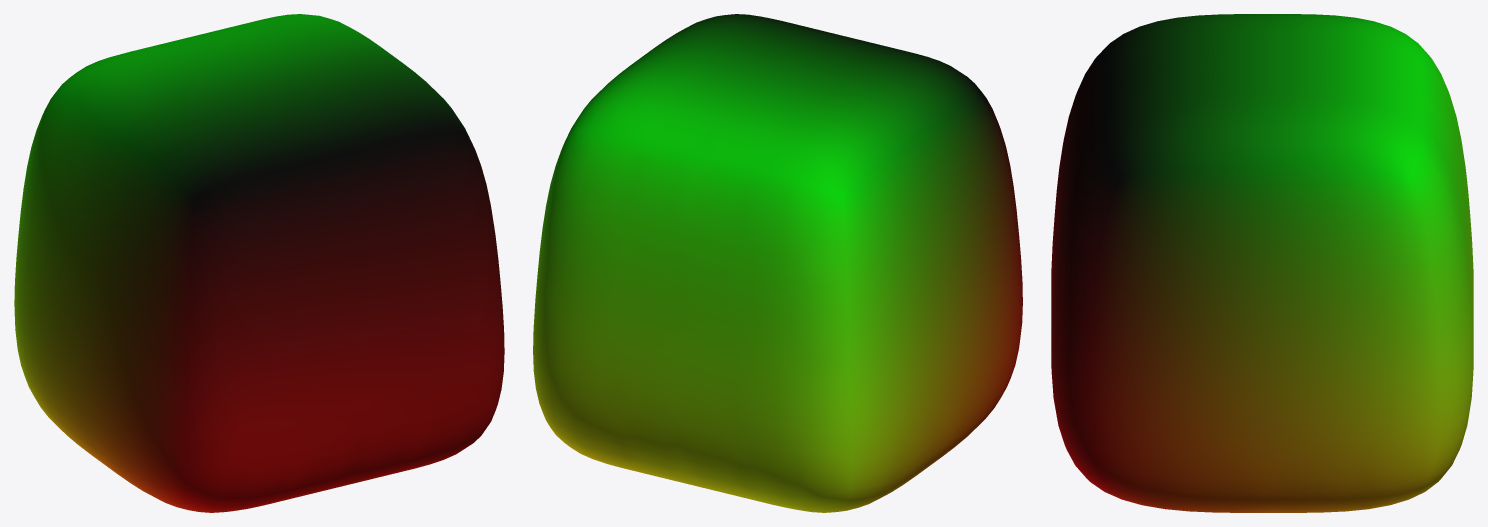
Rendered from obstacle.fbx.
3 renders of one model, left to right at view 1: azimuth 30°, elevation 25°; view 2: azimuth 150°, elevation 25°; view 3: azimuth 270°, elevation 25°, orthographic. The views are drawn at different scales.
Parts seen in each view (by area): view 1: Subdivision_Surface; view 2: Subdivision_Surface; view 3: Subdivision_Surface.
Part boxes in pixels (x1,y1,x2,y2): Subdivision_Surface: (14,14,504,512); Subdivision_Surface: (533,14,1022,512); Subdivision_Surface: (1051,14,1473,512).
Size of the model in its own units: 98.08 by 100 by 97.84.
